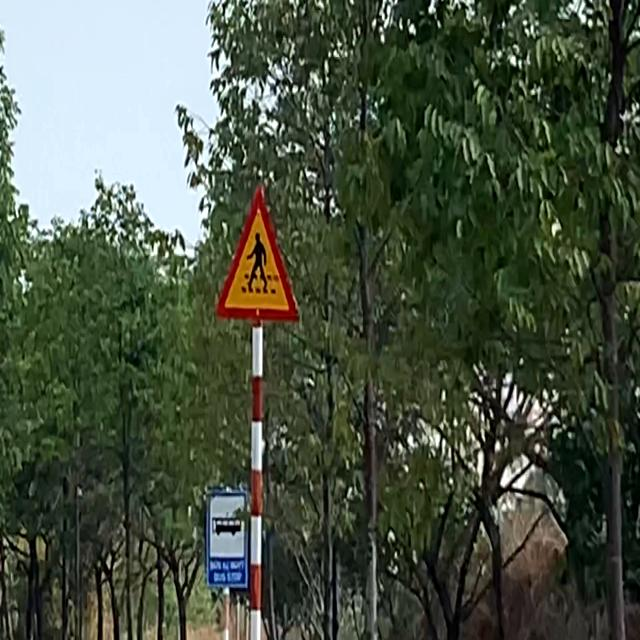W.224: (212, 175, 303, 332)
